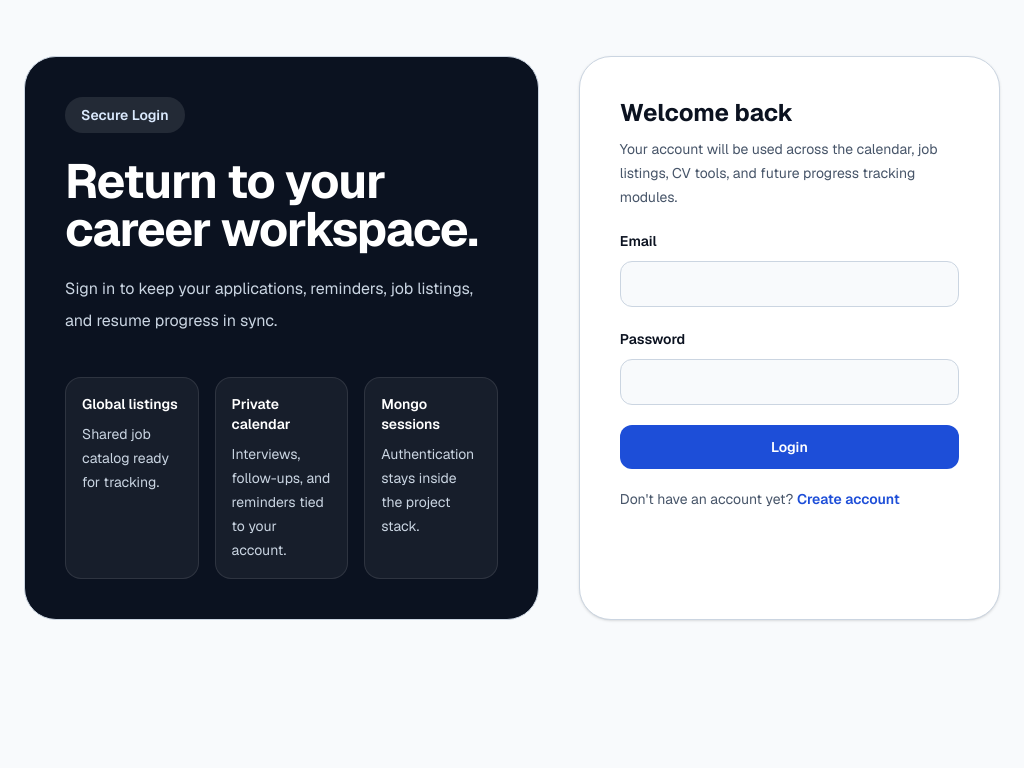
Test case: AuthFormClient › shows the API error when login fails
Type "omar@example.com" into the field labelled "Email" at [789, 284], box [620,261,959,307]
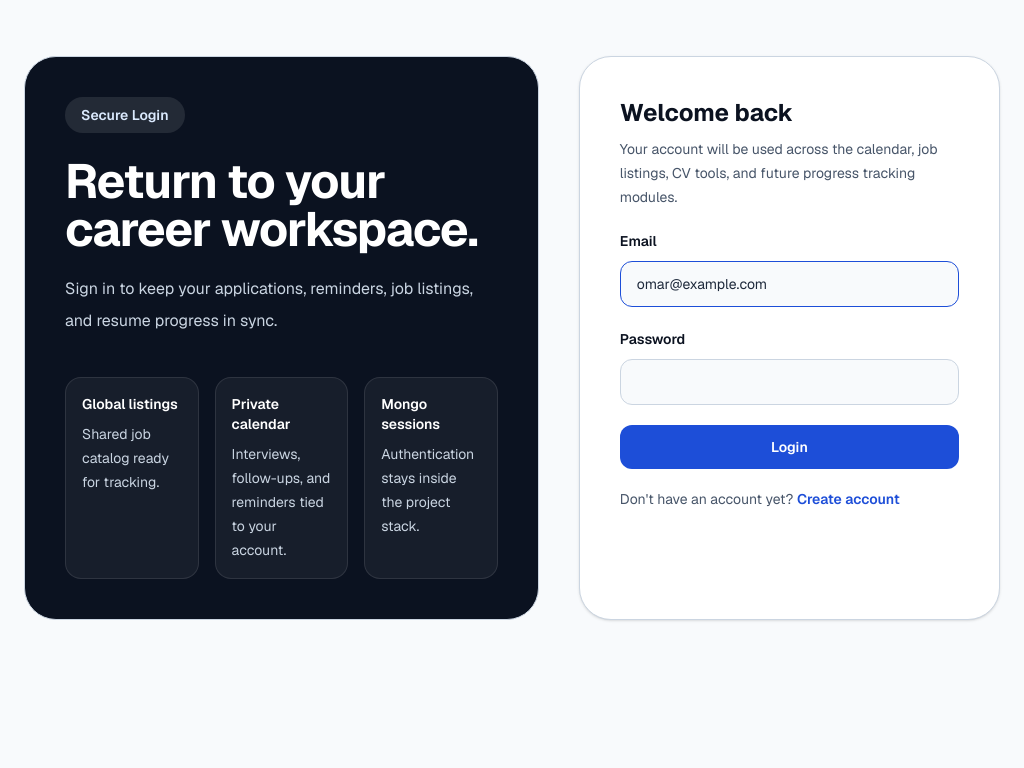
Type "wrong-password" into the password field labelled "Password" at [789, 382], box [620,359,959,405]
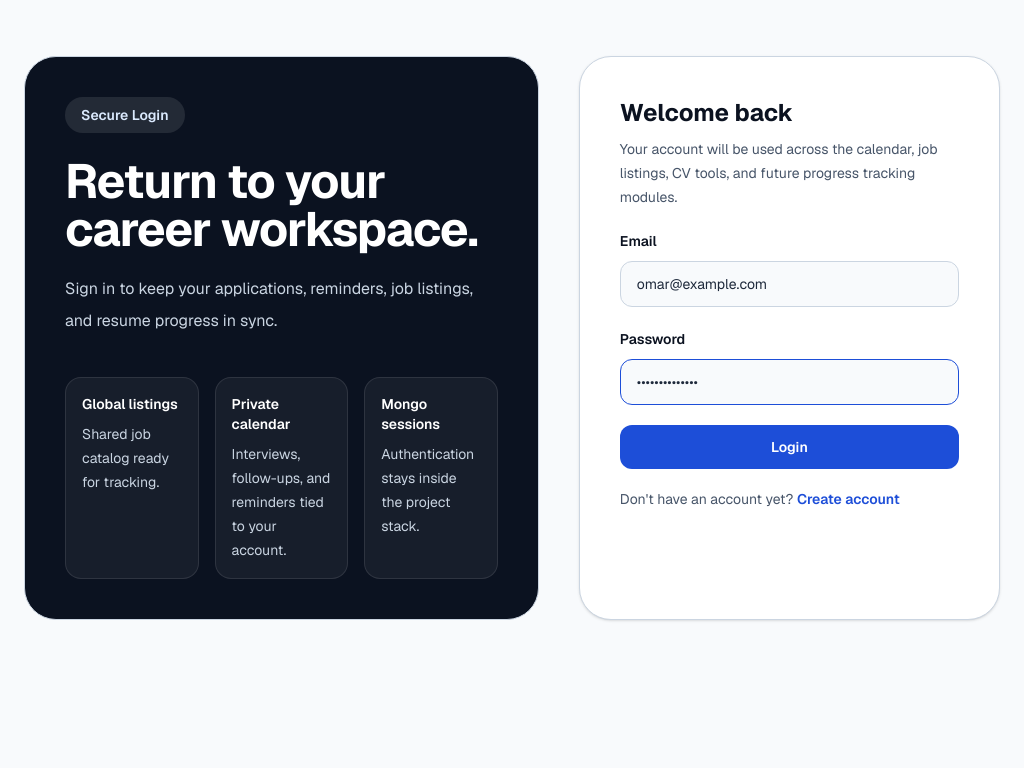
Click the button "Login" at [789, 447], box [620,425,959,469]
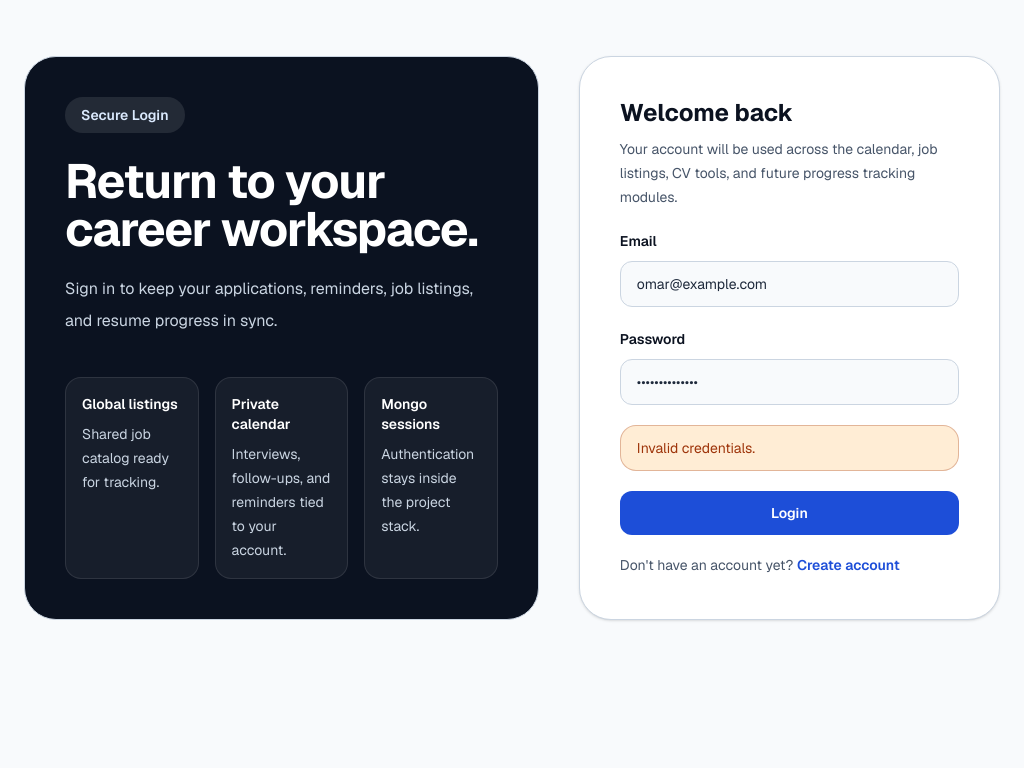
Now the message reads "Invalid credentials.", box [637,439,755,457]
